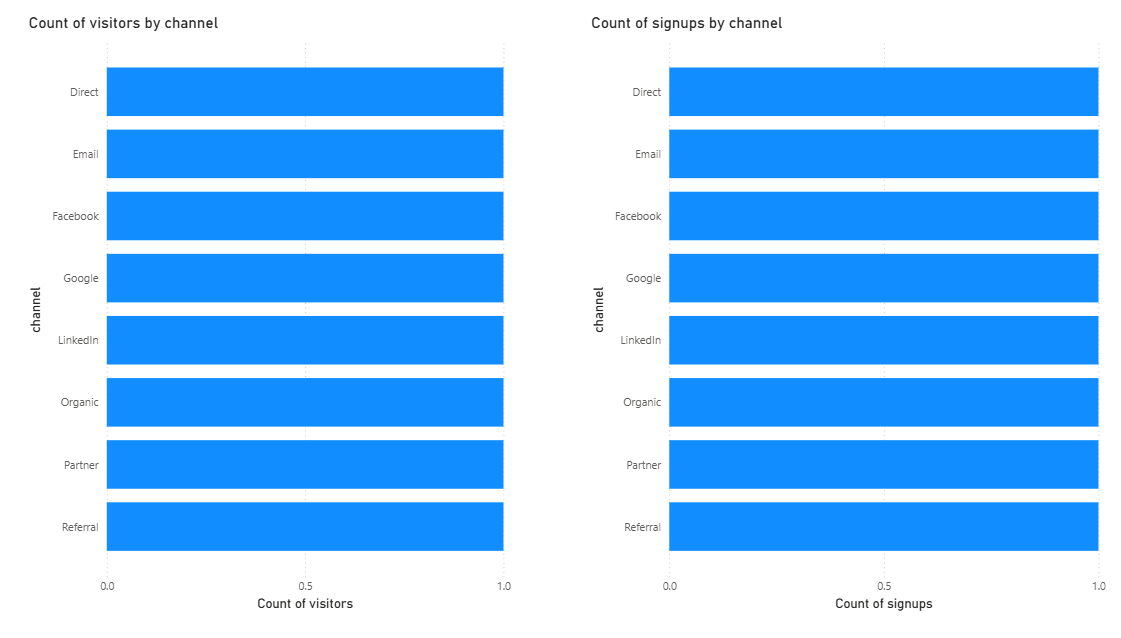

This screenshot's page, from the dashboard's own definition file:
{"tool":"powerbi","page":{"name":"Channel Performance","canvas":[1280,720],"ordinal":1},"visuals":[{"type":"clusteredBarChart","fields":{"Category":["channel_metrics.channel"],"Y":["CountNonNull(channel_metrics.visitors)"]},"box":[61.7,30.2,539.3,661.4],"z":0},{"type":"clusteredBarChart","fields":{"Category":["channel_metrics.channel"],"Y":["CountNonNull(channel_metrics.signups)"]},"box":[679.2,30.2,575,661.4],"z":1000}]}

Visuals, with their boxes in screenshot pixels (x1, y1, x2, y2), scaled from the page's 1280x720 canvas onto the 1121x638 screenshot:
clusteredBarChart - channel_metrics.channel x CountNonNull(channel_metrics.visitors): <bbox>54, 27, 526, 613</bbox>
clusteredBarChart - channel_metrics.channel x CountNonNull(channel_metrics.signups): <bbox>595, 27, 1098, 613</bbox>
